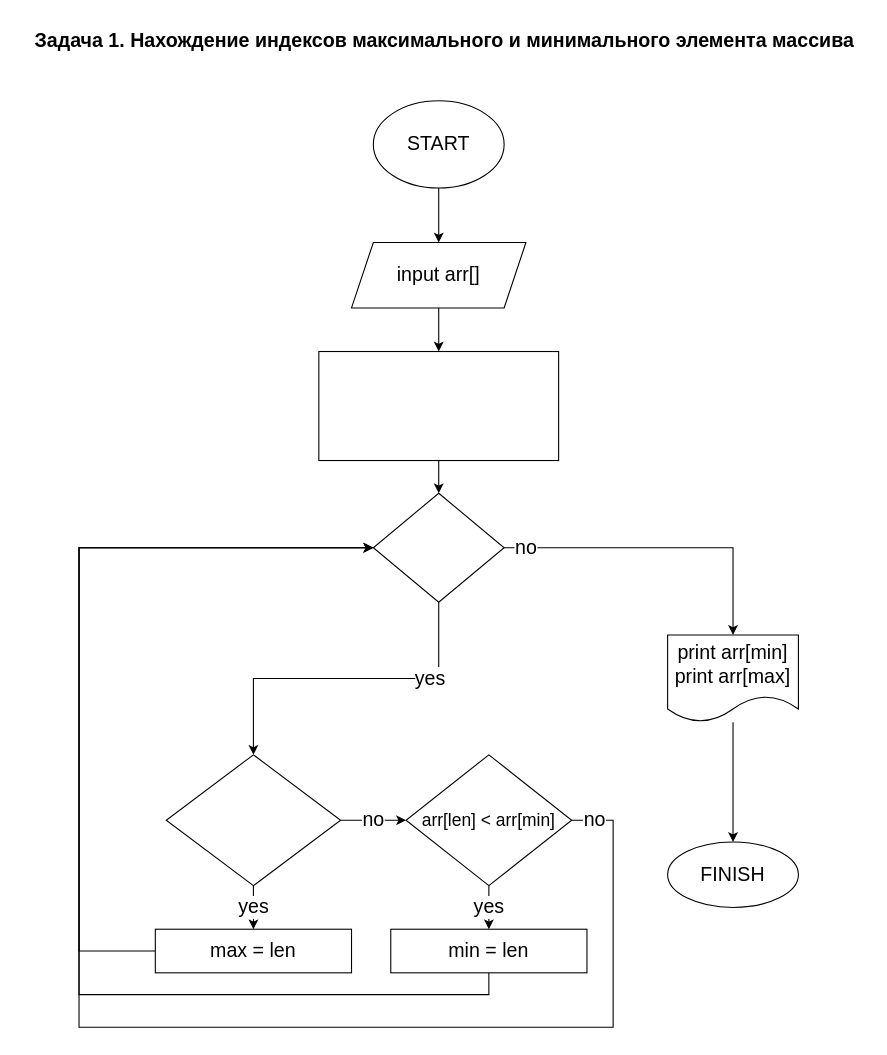
This 887x1055 diagram has some shape labels left out. The shapes that lost their labels are listed below. From the top down, each one's centre as x and y in pixels, then its label:
At point 438,405: "len = arr.length min = 0 max = 0".
At point 438,547: "len-- > 0".
At point 253,820: "arr[len] > arr[max]".
